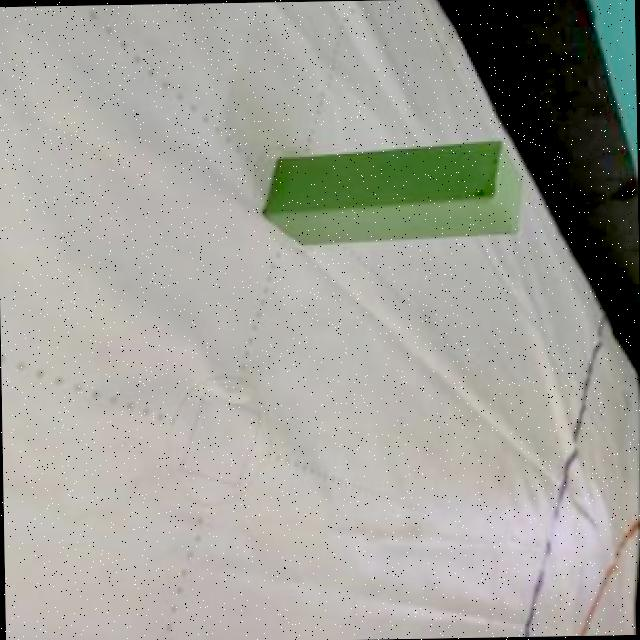greenbox: (255, 136, 528, 247)
